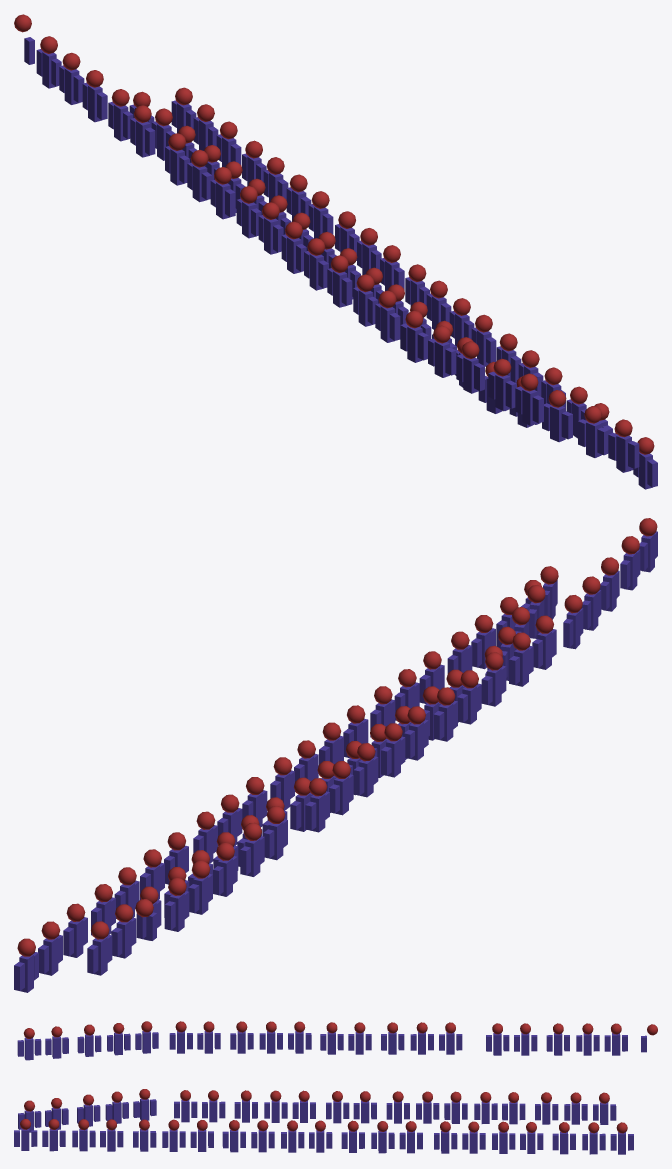
Rendered from supporter4.obj.
The picture shows the model from 3 angles, top to bottom: view 1: azimuth 30°, elevation 25°; view 2: azimuth 150°, elevation 25°; view 3: azimuth 270°, elevation 25°; orthographic projection. The views are drawn at different scales.
Visible parts, largest first — view 1: no part large enough to name; view 2: no part large enough to name; view 3: Cube.921_Cube.920, Cube.918_Cube.917.
Part boxes in pixels (left/top/right/bottom): Cube.921_Cube.920: left=52, top=1036, right=61, bottom=1058; Cube.918_Cube.917: left=24, top=1037, right=33, bottom=1060.
Bounding box in the file's own units: 10.59 × 8.57 × 57.77.
